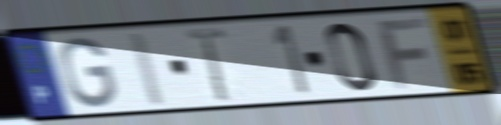0: (324, 20, 378, 93)
1: (271, 22, 314, 97)
F: (374, 14, 431, 92)
G: (57, 35, 119, 110)
I: (125, 29, 170, 109)
T: (182, 25, 231, 105)
